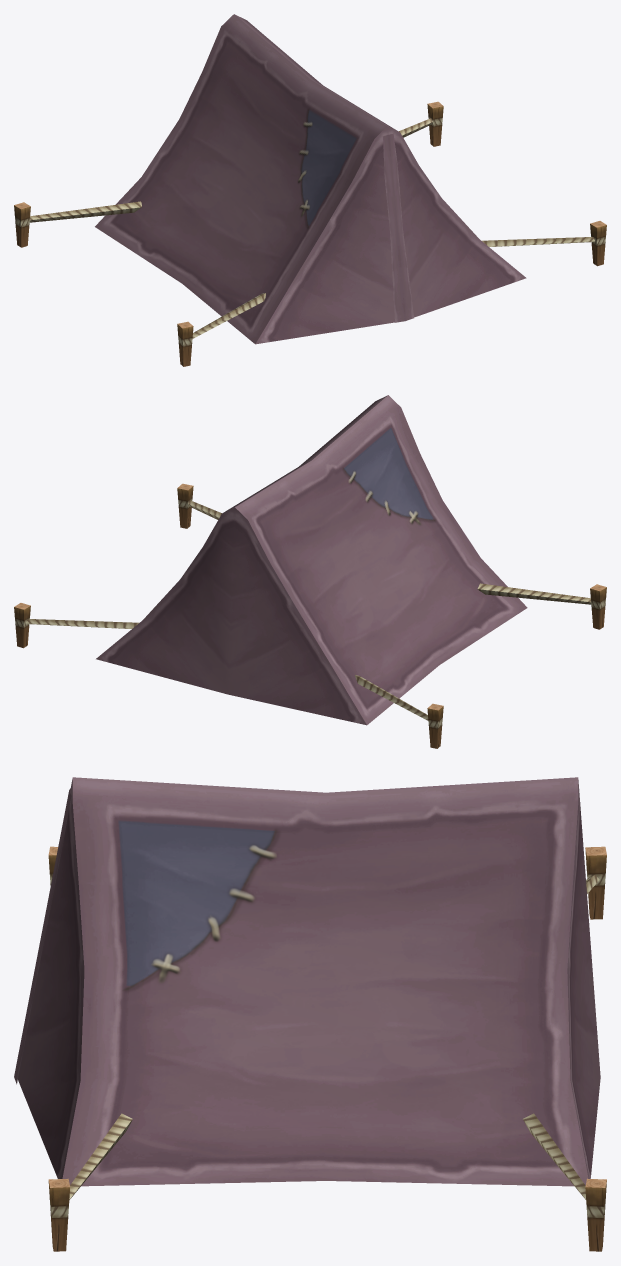
Rendered from tent_purple_03.fbx.
The picture shows the model from 3 angles, top to bottom: view 1: azimuth 30°, elevation 25°; view 2: azimuth 150°, elevation 25°; view 3: azimuth 270°, elevation 25°; orthographic projection. The views are drawn at different scales.
Visible parts, largest first — view 1: tent_purple_03:Mesh; view 2: tent_purple_03:Mesh; view 3: tent_purple_03:Mesh.
Boxes of the visible parts, x1,y1,x2,y2 form: tent_purple_03:Mesh: (14,14,606,366); tent_purple_03:Mesh: (14,395,606,748); tent_purple_03:Mesh: (14,777,606,1251).
Size of the model in its own units: 5.99 by 2.5 by 4.4.
